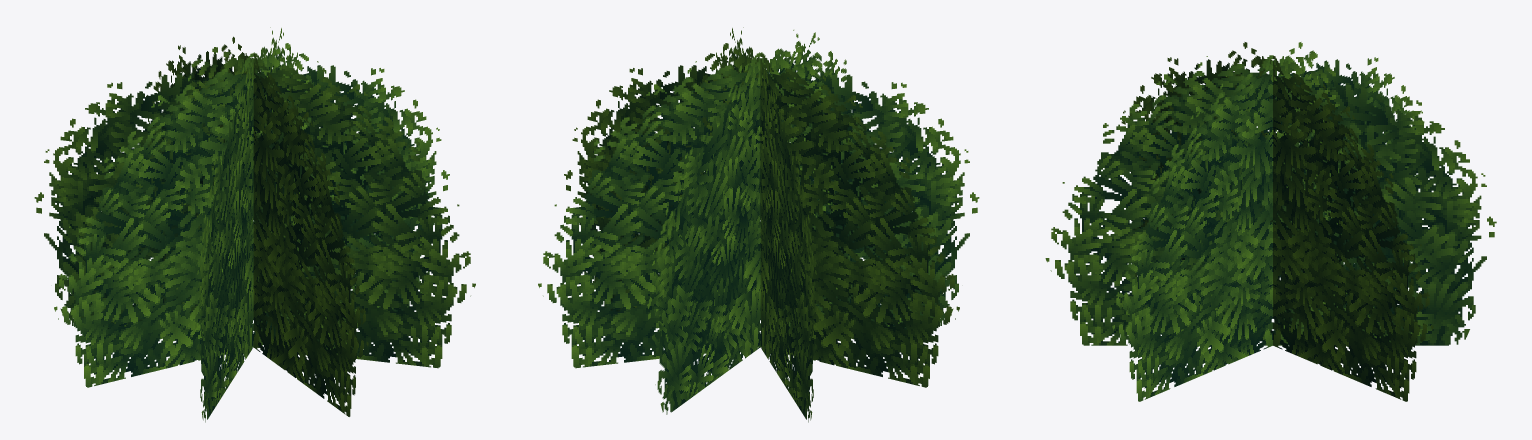
Rendered from dwarf_cedar_0.glb.
3 views of the same model, side by side, from view 1: azimuth 30°, elevation 25°; view 2: azimuth 150°, elevation 25°; view 3: azimuth 270°, elevation 25° (orthographic).
Visible parts, largest first — view 1: dwarf_cedar_0; view 2: dwarf_cedar_0; view 3: dwarf_cedar_0.
Part boxes in pixels (bbox=[...]): dwarf_cedar_0: bbox=[34, 27, 475, 422]; dwarf_cedar_0: bbox=[538, 27, 979, 422]; dwarf_cedar_0: bbox=[1045, 42, 1496, 401].
Size of the model in its own units: 2.29 by 1.6 by 2.29.
Materials: 1 (1 with a texture image).
